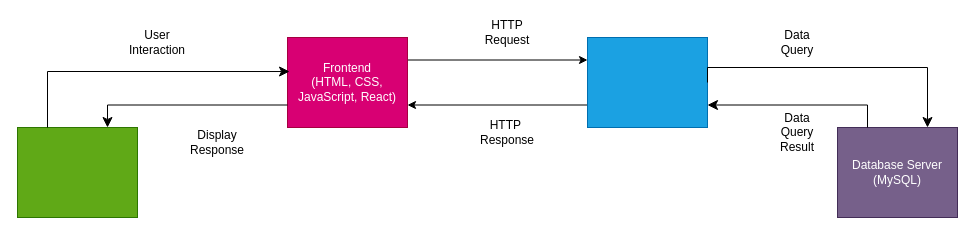
The diagram is 975 pixels wide and 235 high, and some of its shapes have lost their labels. Each missing label, with the box of its shape:
Application Server (Node.js / Express): (586, 36, 708, 128)
User Interface: (16, 126, 138, 218)
